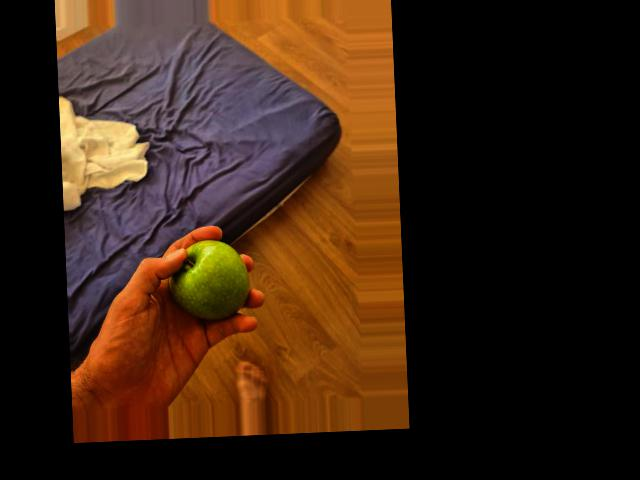apple: (172, 239, 251, 324)
